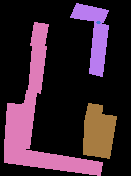parkingspot: (4, 146, 102, 175), (16, 90, 36, 148), (89, 22, 108, 76), (83, 103, 102, 156), (28, 45, 46, 93), (97, 114, 116, 158), (4, 103, 22, 148), (70, 3, 108, 22), (30, 22, 48, 46)
